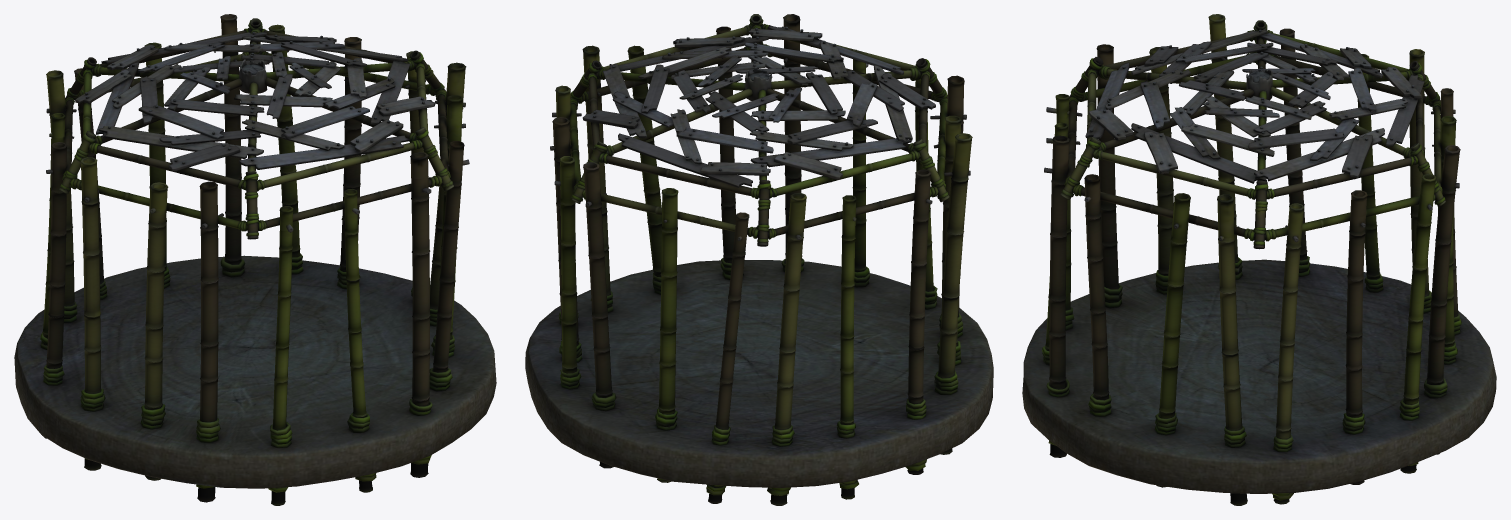
File: A_CageOpossumJason.fbx
3 views of the same model, side by side, from view 1: azimuth 30°, elevation 25°; view 2: azimuth 150°, elevation 25°; view 3: azimuth 270°, elevation 25° (orthographic).
Parts seen in each view (by area): view 1: A_CageOpossumJason_low; view 2: A_CageOpossumJason_low; view 3: A_CageOpossumJason_low.
Part boxes in pixels (<box>): A_CageOpossumJason_low: <box>14,14,496,505</box>; A_CageOpossumJason_low: <box>525,14,993,505</box>; A_CageOpossumJason_low: <box>1022,14,1496,505</box>.
Size of the model in its own units: 117 by 94.68 by 116.
Materials: 1 (1 with a texture image).
